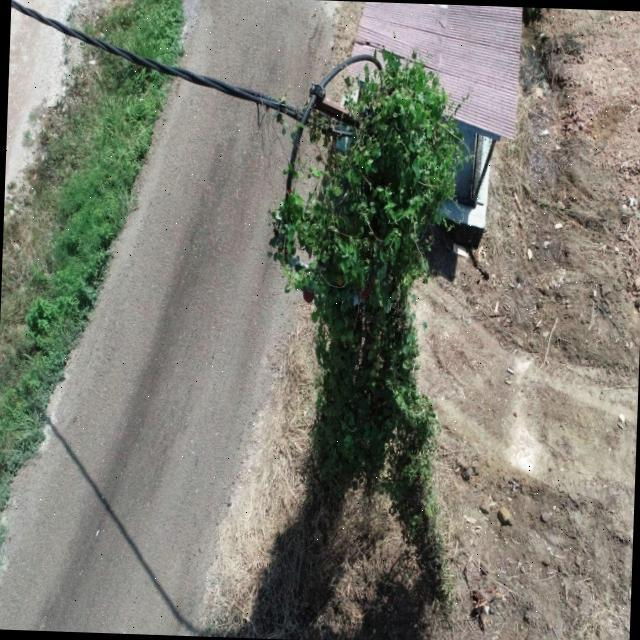critical vegetation: (242, 37, 484, 622)
